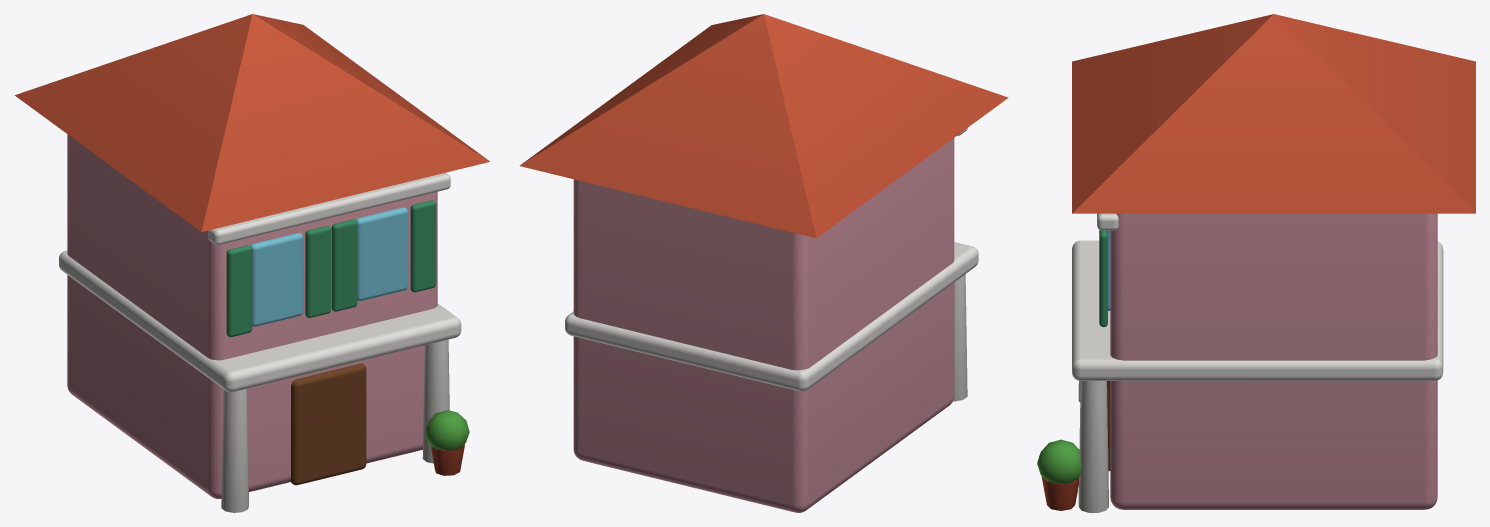
File: shophouse_pink.glb
The picture shows the model from 3 angles, left to right: view 1: azimuth 30°, elevation 25°; view 2: azimuth 150°, elevation 25°; view 3: azimuth 270°, elevation 25°; orthographic projection. The views are drawn at different scales.
Visible parts, largest first — view 1: shophouse; view 2: shophouse; view 3: shophouse.
Boxes of the visible parts, x1,y1,x2,y2 form: shophouse: (15,14,490,512); shophouse: (519,14,1008,512); shophouse: (1037,14,1475,512).
Bounding box in the file's own units: 3.3 × 4.45 × 4.02.
